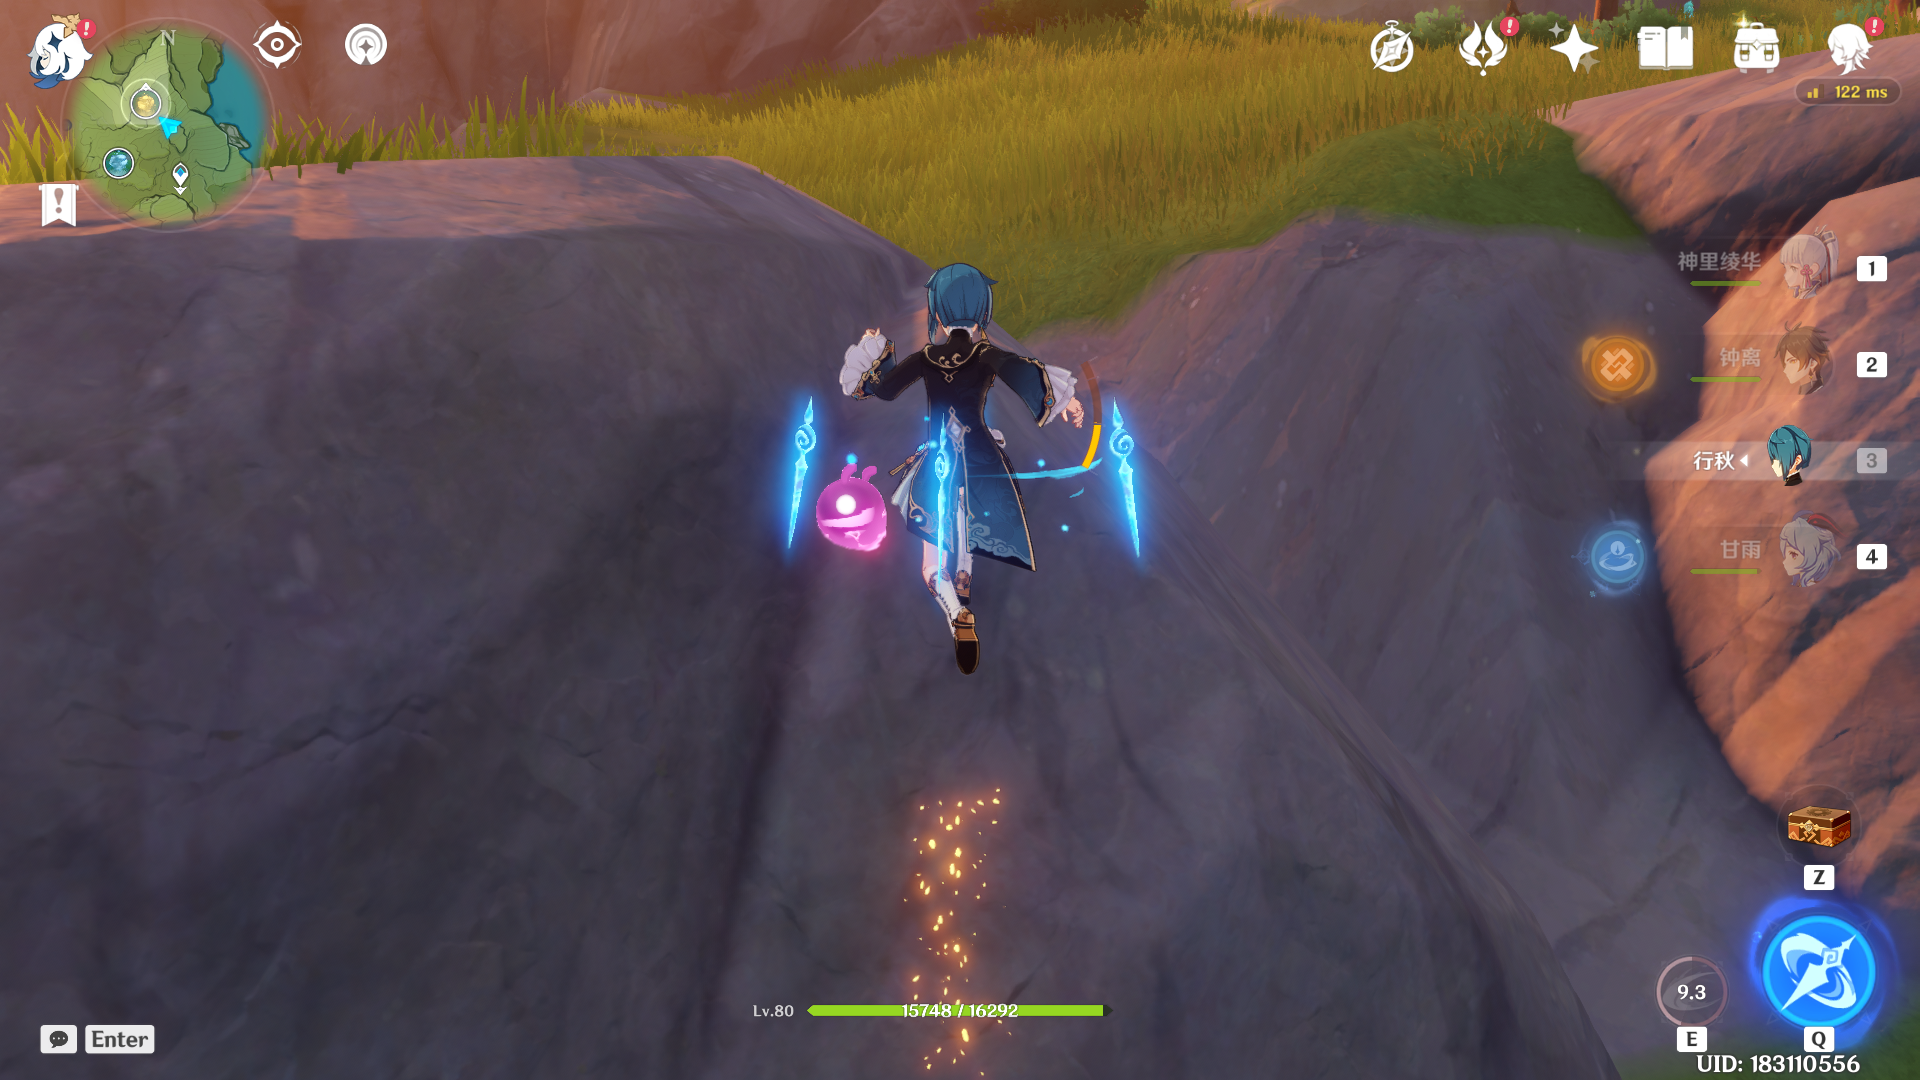character: (789, 229, 1134, 750)
